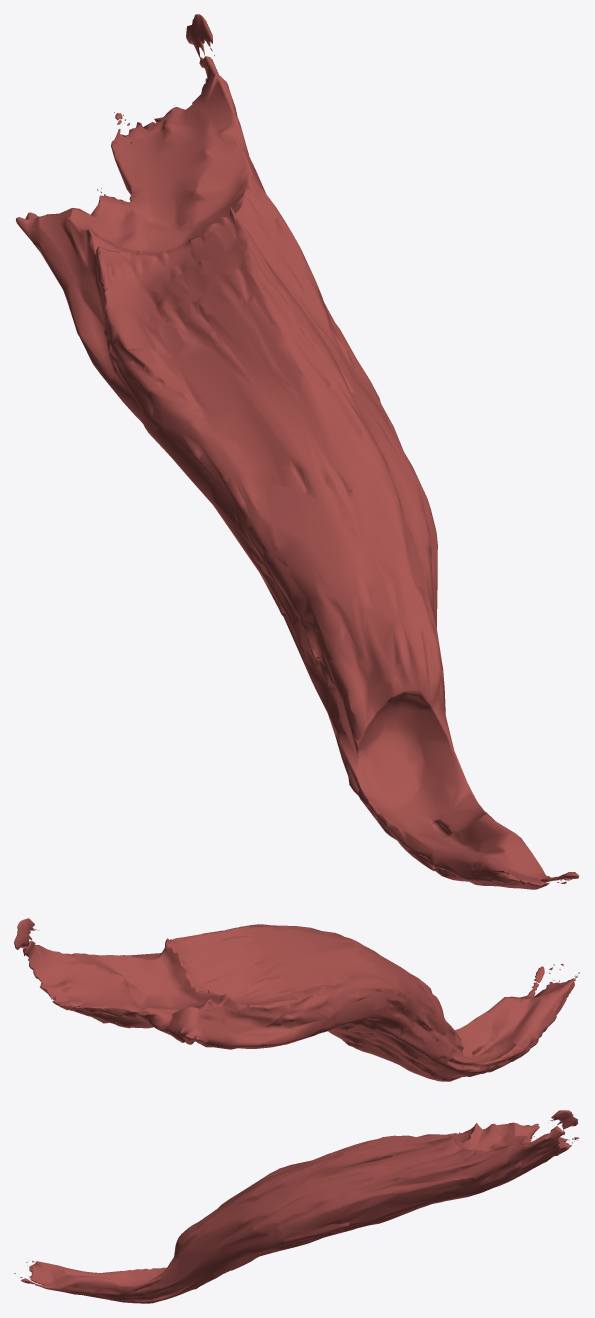
The model's file is FMA45973.glb.
3 renders of one model, top to bottom at view 1: azimuth 30°, elevation 25°; view 2: azimuth 150°, elevation 25°; view 3: azimuth 270°, elevation 25°, orthographic. The views are drawn at different scales.
Parts seen in each view (by area): view 1: FMA45973; view 2: FMA45973; view 3: FMA45973.
Part boxes in pixels (left/top/right/bottom): FMA45973: left=16, top=14, right=578, bottom=889; FMA45973: left=14, top=918, right=579, bottom=1081; FMA45973: left=14, top=1110, right=579, bottom=1303.
Size of the model in its own units: 0.0206 by 0.0375 by 0.0815.
